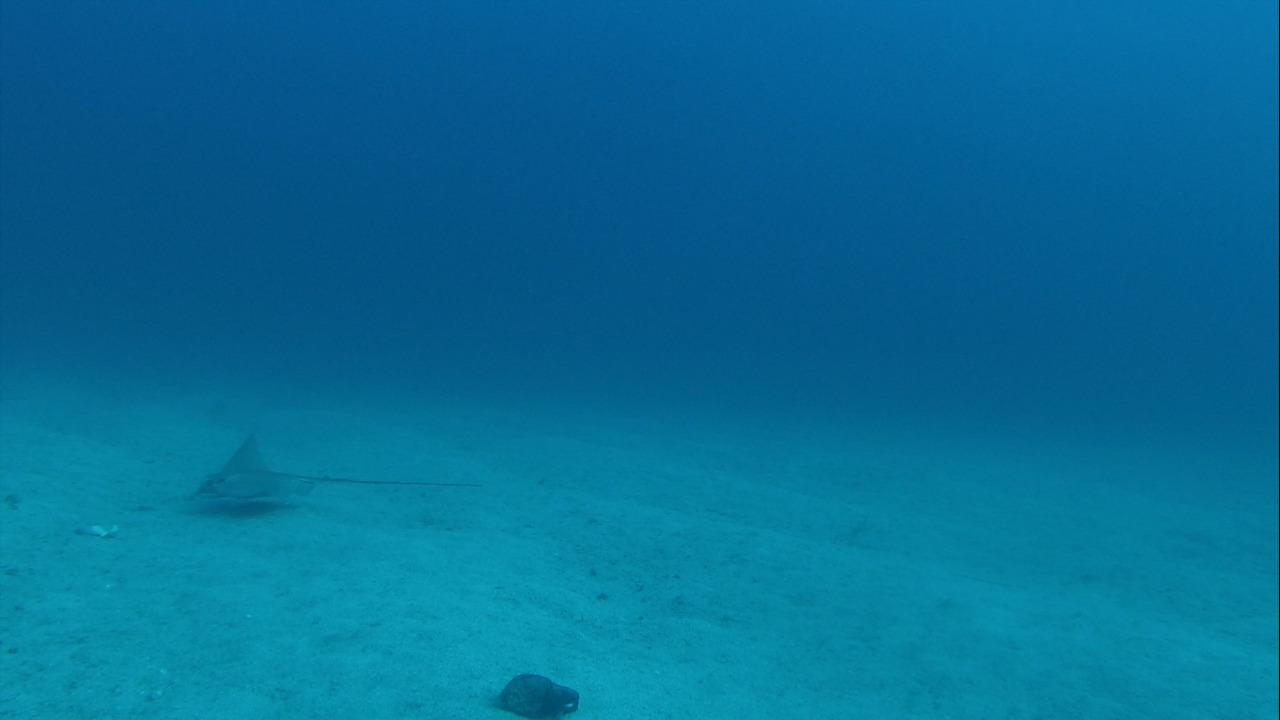myliobatis: (179, 428, 486, 521)
